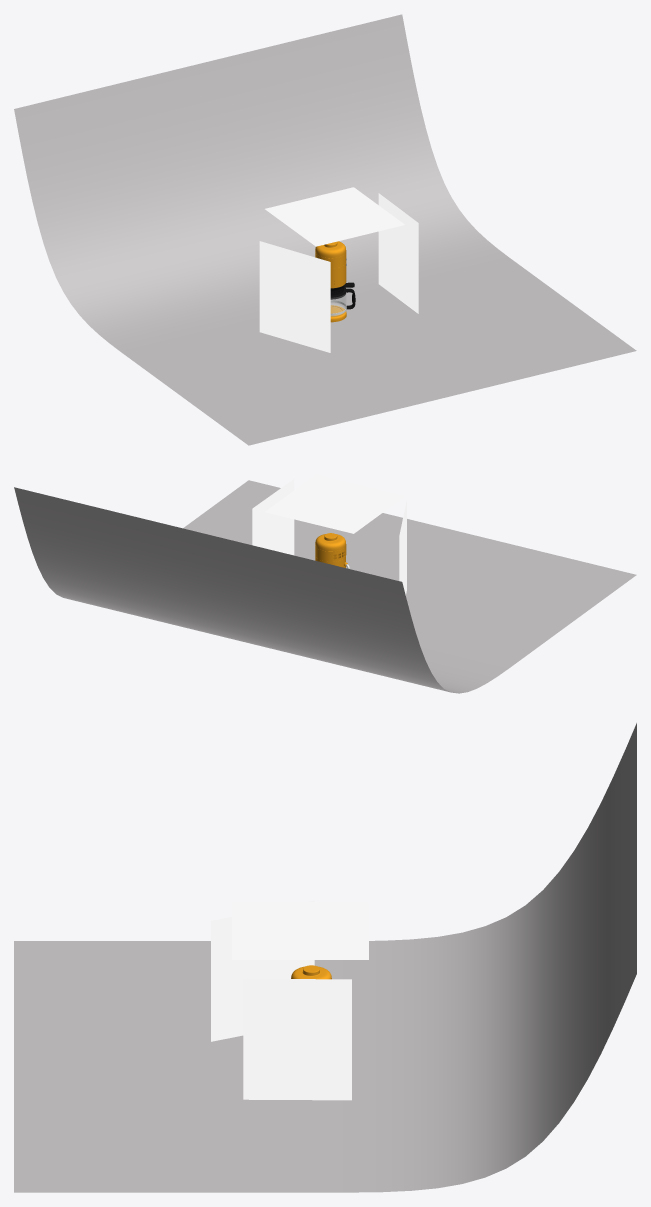
Rendered from coffee-maker.glb.
The picture shows the model from 3 angles, top to bottom: view 1: azimuth 30°, elevation 25°; view 2: azimuth 150°, elevation 25°; view 3: azimuth 270°, elevation 25°; orthographic projection. The views are drawn at different scales.
Visible parts, largest first — view 1: Floor, object 21, object 23, object 22; view 2: Floor, object 23, object 22, object 21, Plastic_Orange_0001, Plastic_Orange_0006; view 3: Floor, object 22, object 23, object 21.
Boxes of the visible parts, left/top/right/bottom form: Floor: left=14, top=14, right=636, bottom=445; object 21: left=259, top=241, right=330, bottom=352; object 23: left=265, top=187, right=404, bottom=246; object 22: left=378, top=193, right=418, bottom=313; Floor: left=14, top=480, right=636, bottom=693; object 23: left=265, top=474, right=404, bottom=533; object 22: left=252, top=479, right=294, bottom=555; object 21: left=399, top=500, right=406, bottom=595; Plastic_Orange_0001: left=315, top=533, right=346, bottom=551; Plastic_Orange_0006: left=315, top=545, right=346, bottom=561; Floor: left=14, top=723, right=636, bottom=1192; object 22: left=243, top=978, right=351, bottom=1100; object 23: left=232, top=902, right=368, bottom=959; object 21: left=211, top=900, right=314, bottom=1041.
Bounding box in the file's own units: 2 × 0.8112 × 2.09.
3 materials, 3 textured.
